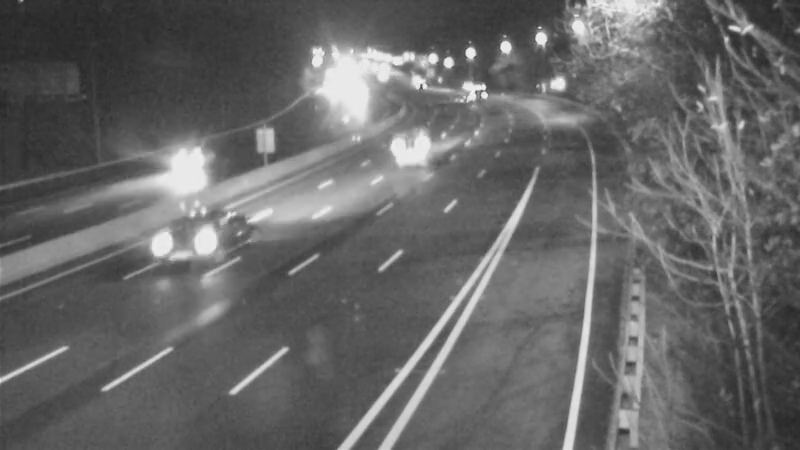vehicle: (149, 207, 229, 287), (138, 120, 218, 200), (449, 68, 499, 118), (375, 122, 425, 172)
